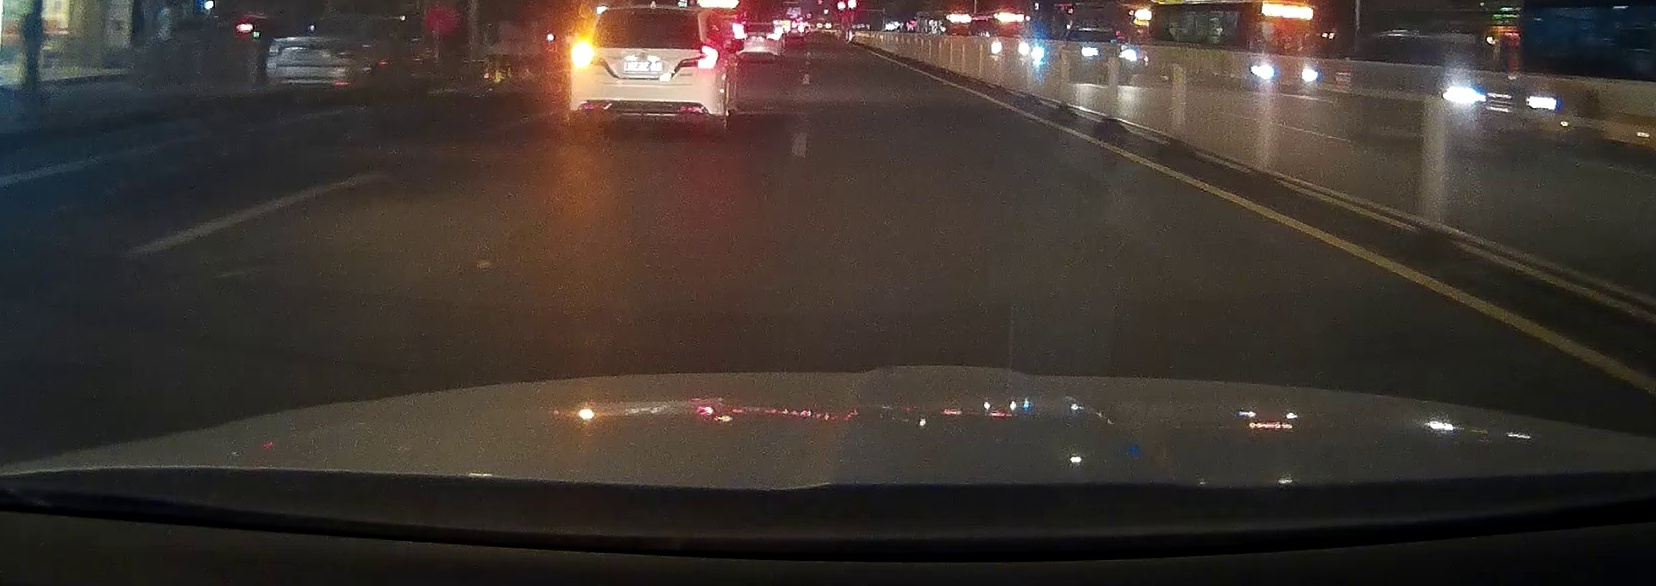L_light: (572, 44, 596, 67)
R_light: (697, 44, 719, 70)
T_light: (643, 10, 662, 13)
day-left: (569, 3, 723, 137)
